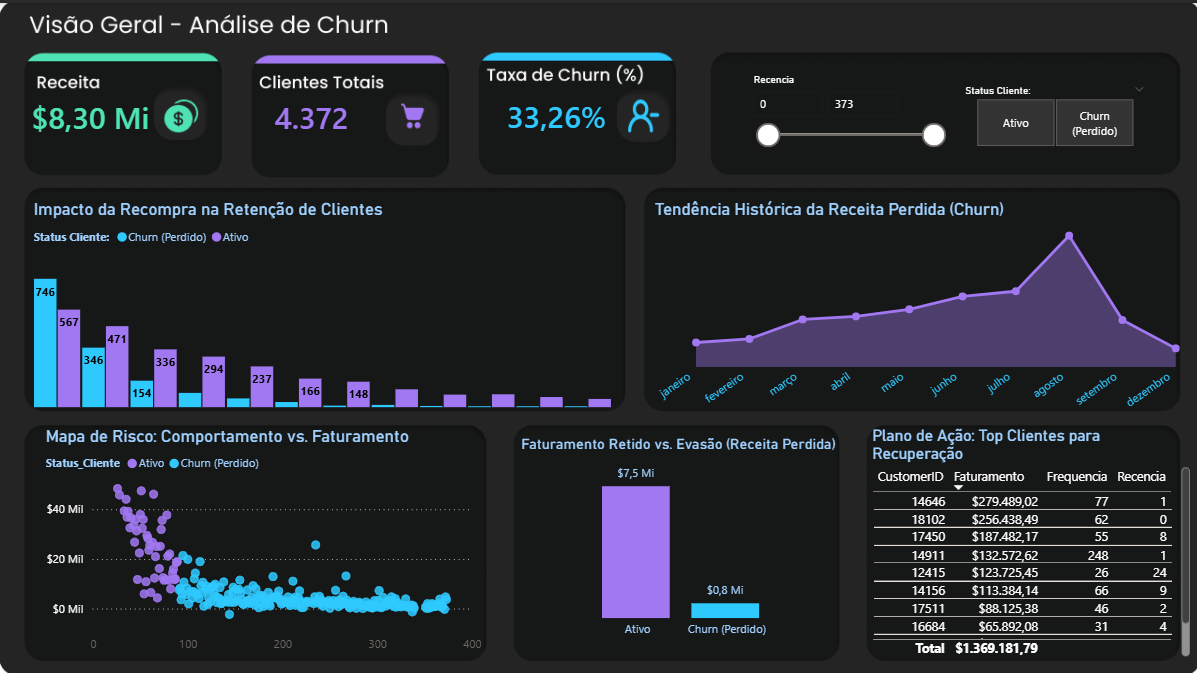

The page's visual inventory and layout, read from the dashboard file:
{"tool":"powerbi","page":{"name":"Página 1","canvas":[1280,720],"ordinal":0},"visuals":[{"type":"cardVisual","title":"Clientes Totais","fields":{"Data":["Count(dados_consolidados_churn.CustomerID)"]},"box":[250.6,74.9,164.2,89.3],"z":0},{"type":"cardVisual","title":"Receita Total","fields":{"Data":["Sum(dados_consolidados_churn.ValorMonetario)"]},"box":[0,79.2,195.8,80.6],"z":1000},{"type":"cardVisual","title":"Taxa de Churn (%)","fields":{"Data":["dados_consolidados_churn.Taxa de Churn %"]},"box":[481,70.6,226.1,97.9],"z":2000},{"type":"scatterChart","title":"Mapa de Risco: Comportamento vs. Faturamento","fields":{"Series":["dados_consolidados_churn.Status_Cliente"],"X":["dados_consolidados_churn.Recencia"],"Y":["Sum(dados_consolidados_churn.ValorMonetario)"]},"box":[44.6,450.7,473.8,250.6],"z":3000},{"type":"clusteredColumnChart","title":"Faturamento Retido vs. Evasão (Receita Perdida)","fields":{"Category":["dados_consolidados_churn.Status_Cliente"],"Y":["Sum(dados_consolidados_churn.ValorMonetario)"]},"box":[551.5,460.8,352.8,224.6],"z":4000},{"type":"clusteredColumnChart","title":"Impacto da Recompra na Retenção de Clientes","fields":{"Category":["dados_consolidados_churn.Frequencia"],"Series":["dados_consolidados_churn.Status_Cliente"],"Y":["Count(dados_consolidados_churn.CustomerID)"]},"box":[32,209.3,624.7,226.9],"z":5000},{"type":"lineChart","title":"Tendência Histórica da Receita Perdida (Churn)","fields":{"Category":["dados_consolidados_churn.UltimaCompra.Variation.Hierarquia de datas.Ano","dados_consolidados_churn.UltimaCompra.Variation.Hierarquia de datas.Mês"],"Y":["Sum(dados_consolidados_churn.ValorMonetario)"]},"box":[692.7,208.6,587.3,243],"z":6000},{"type":"tableEx","title":"Plano de Ação: Top Clientes para Recuperação","fields":{"Values":["dados_consolidados_churn.CustomerID","Sum(dados_consolidados_churn.ValorMonetario)","dados_consolidados_churn.Frequencia","dados_consolidados_churn.Recencia"]},"box":[924.5,450.7,348.5,250.6],"z":7000},{"type":"slicer","fields":{"Values":["dados_consolidados_churn.Status_Cliente"]},"box":[1016.6,82.1,216,77.8],"z":8000},{"type":"slicer","fields":{"Values":["dados_consolidados_churn.Recencia"]},"box":[790.6,70.6,226.1,102.2],"z":9000}]}

Visuals, with their boxes in screenshot pixels (x1, y1, x2, y2), scaled from the page's 1280x720 canvas onto the 1197x673 screenshot:
"Clientes Totais" cardVisual: Rect(234, 70, 388, 153)
"Receita Total" cardVisual: Rect(0, 74, 183, 149)
"Taxa de Churn (%)" cardVisual: Rect(450, 66, 661, 158)
"Mapa de Risco: Comportamento vs. Faturamento" scatterChart: Rect(42, 421, 485, 656)
"Faturamento Retido vs. Evasão (Receita Perdida)" clusteredColumnChart: Rect(516, 431, 846, 641)
"Impacto da Recompra na Retenção de Clientes" clusteredColumnChart: Rect(30, 196, 614, 408)
"Tendência Histórica da Receita Perdida (Churn)" lineChart: Rect(648, 195, 1196, 422)
"Plano de Ação: Top Clientes para Recuperação" tableEx: Rect(865, 421, 1190, 656)
slicer - dados_consolidados_churn.Status_Cliente: Rect(951, 77, 1153, 149)
slicer - dados_consolidados_churn.Recencia: Rect(739, 66, 951, 162)
